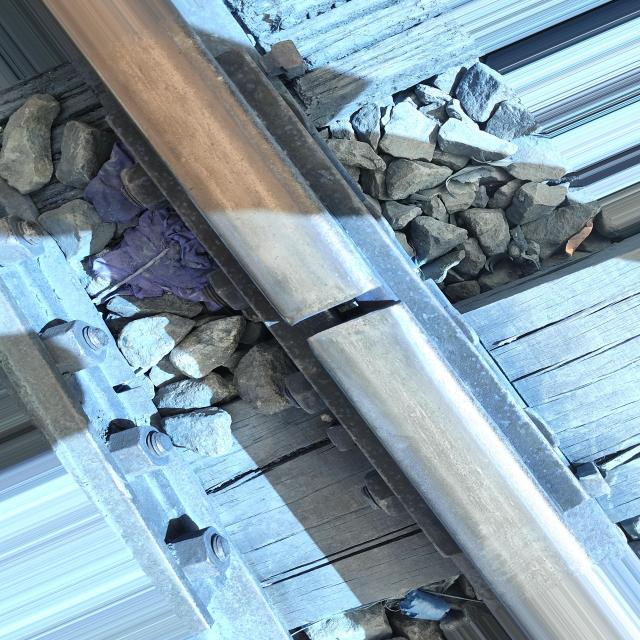crack: (265, 266, 427, 363)
